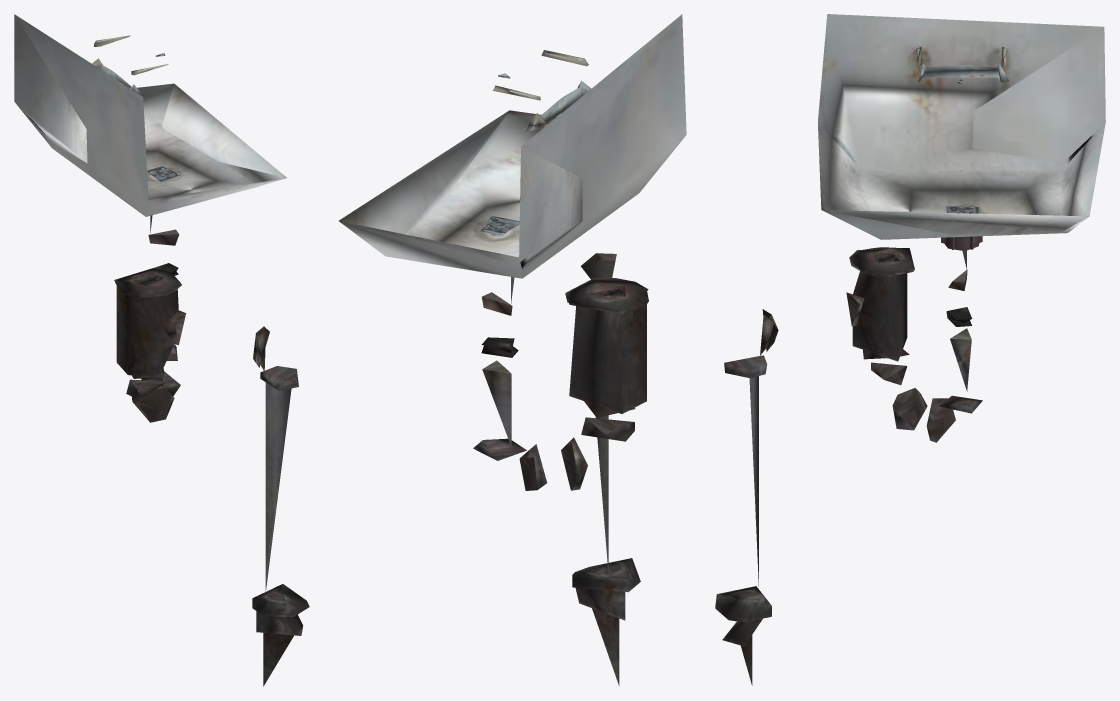
The model's file is wash-basin.lod0.glb.
3 views of the same model, side by side, from view 1: azimuth 30°, elevation 25°; view 2: azimuth 150°, elevation 25°; view 3: azimuth 270°, elevation 25° (orthographic). The views are drawn at different scales.
Parts seen in each view (by area): view 1: Object_16; view 2: Object_16; view 3: Object_16.
Boxes of the visible parts, x1,y1,x2,y2 form: Object_16: (14, 14, 309, 686); Object_16: (339, 14, 686, 685); Object_16: (715, 14, 1105, 685).
Bounding box in the file's own units: 0.3148 × 1.15 × 0.6473.
1 material, 1 textured.
